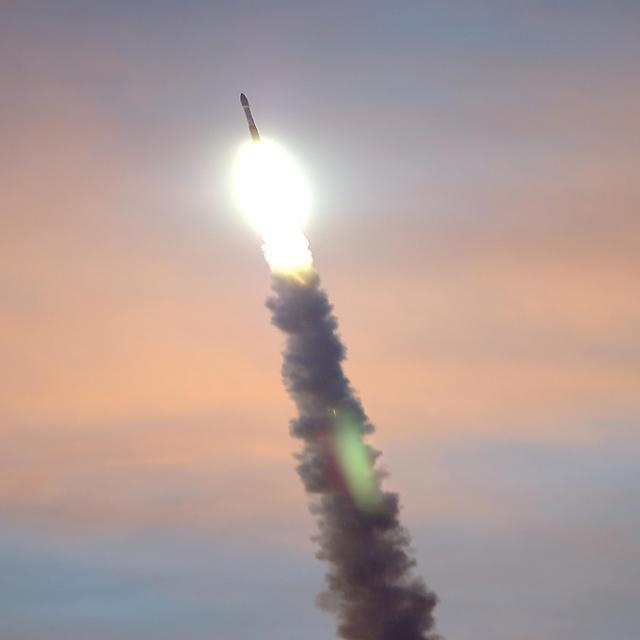missile: (238, 90, 262, 141)
